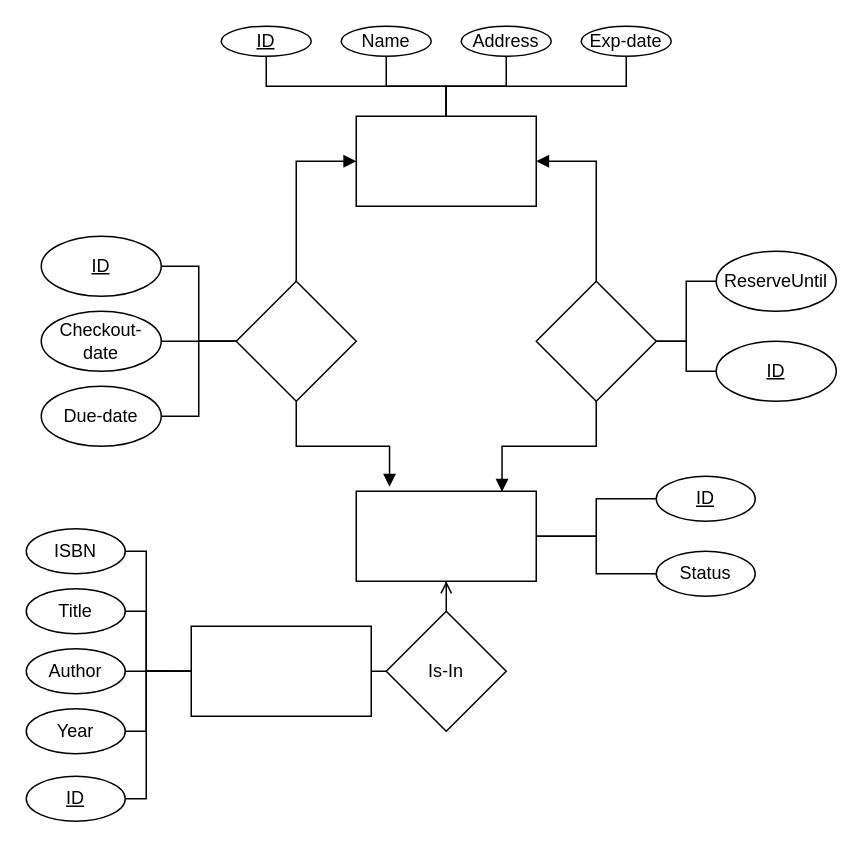
The diagram is 863 pixels wide and 848 high, and some of its shapes have lost their labels. The box of each missing label's shape, as (x1, y1, x2, y2) in pixels:
Book: (190, 625, 371, 716)
Checkout: (235, 280, 356, 401)
Inventory: (355, 490, 536, 581)
Member: (355, 115, 536, 206)
Reserve: (535, 280, 656, 401)
